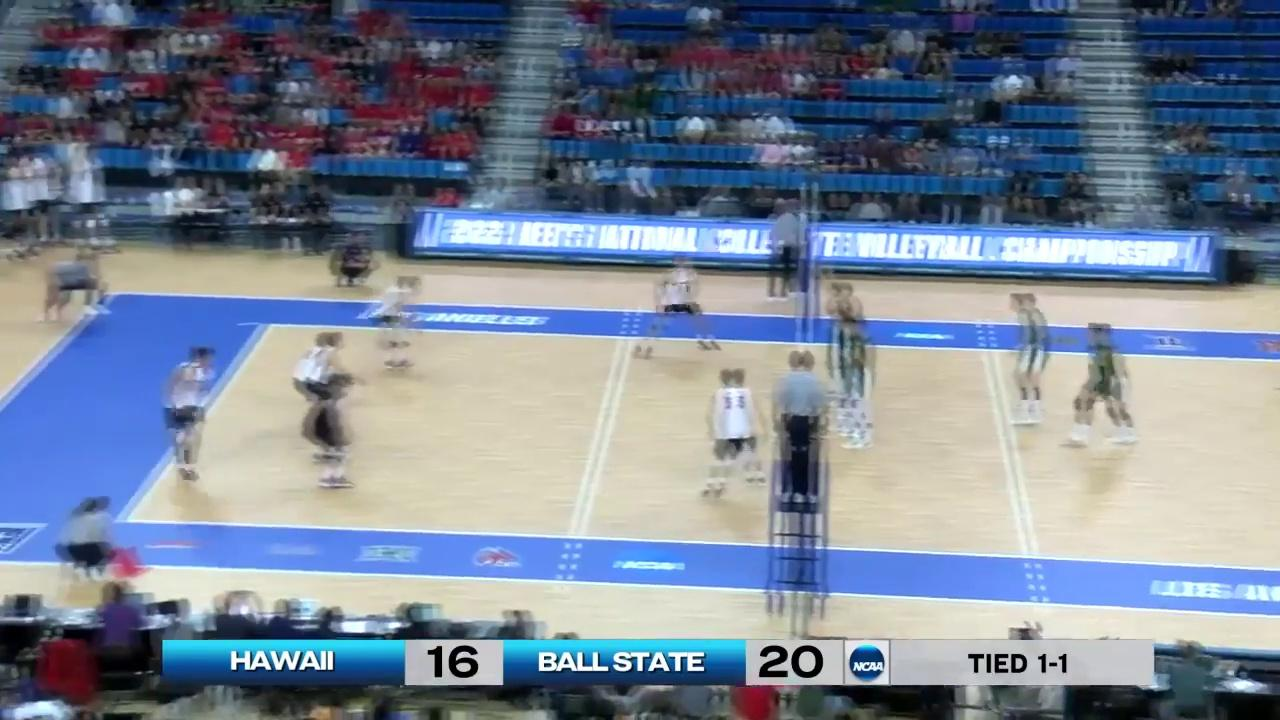player: (1064, 323, 1138, 449), (697, 366, 760, 502), (161, 347, 219, 481), (639, 256, 713, 354), (302, 380, 359, 490), (359, 274, 419, 373), (1010, 291, 1052, 428), (842, 315, 879, 452), (830, 280, 870, 392), (291, 333, 349, 407)
refree: (775, 352, 830, 498), (61, 494, 139, 585), (36, 251, 114, 321), (768, 200, 802, 299)
